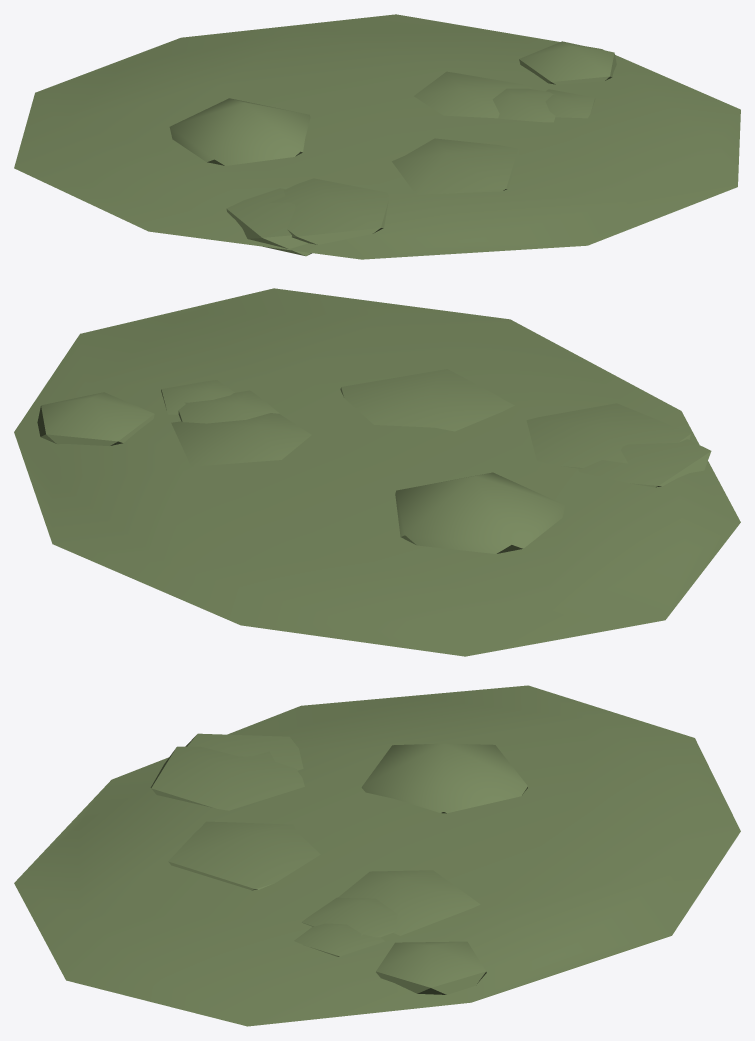
File: moss_bank_a.glb
3 views of the same model, one above another, from view 1: azimuth 30°, elevation 25°; view 2: azimuth 150°, elevation 25°; view 3: azimuth 270°, elevation 25° (orthographic). The views are drawn at different scales.
Parts seen in each view (by area): view 1: moss; view 2: moss; view 3: moss.
Part boxes in pixels (left/top/right/bottom): moss: left=14, top=14, right=740, bottom=259; moss: left=14, top=288, right=740, bottom=656; moss: left=14, top=685, right=740, bottom=1026.
Size of the model in its own units: 1.7 by 0.1418 by 1.53.
